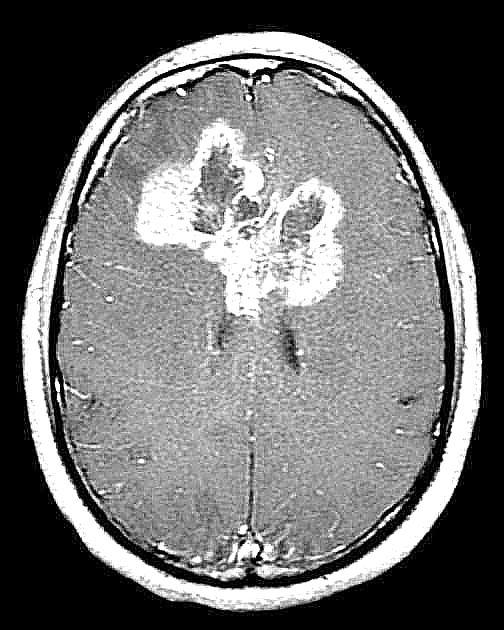Tumor: (136, 113, 361, 334)
